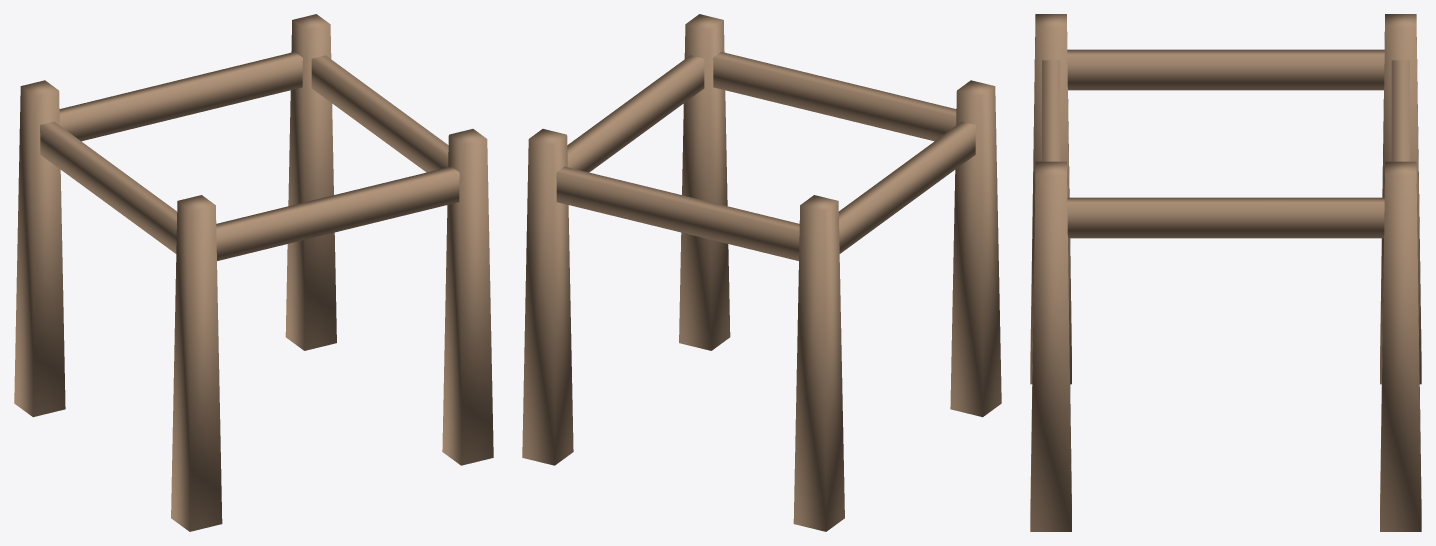
Rendered from kenney_survival-kit__structure.fbx.
3 views of the same model, side by side, from view 1: azimuth 30°, elevation 25°; view 2: azimuth 150°, elevation 25°; view 3: azimuth 270°, elevation 25° (orthographic). The views are drawn at different scales.
Parts seen in each view (by area): view 1: kenney_survival-kit__structure__cave_wood; view 2: kenney_survival-kit__structure__cave_wood; view 3: kenney_survival-kit__structure__cave_wood.
Boxes of the visible parts, x1,y1,x2,y2 form: kenney_survival-kit__structure__cave_wood: (14,14,493,531); kenney_survival-kit__structure__cave_wood: (522,14,1001,531); kenney_survival-kit__structure__cave_wood: (1030,14,1421,531).
Bounding box in the file's own units: 1.79 × 1.79 × 1.79.
